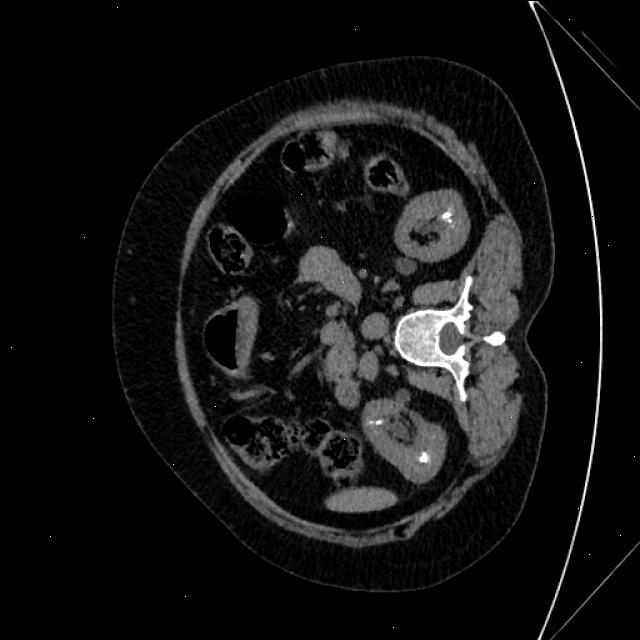kidneystone: (441, 210, 453, 221), (365, 419, 384, 425), (419, 450, 428, 462)
